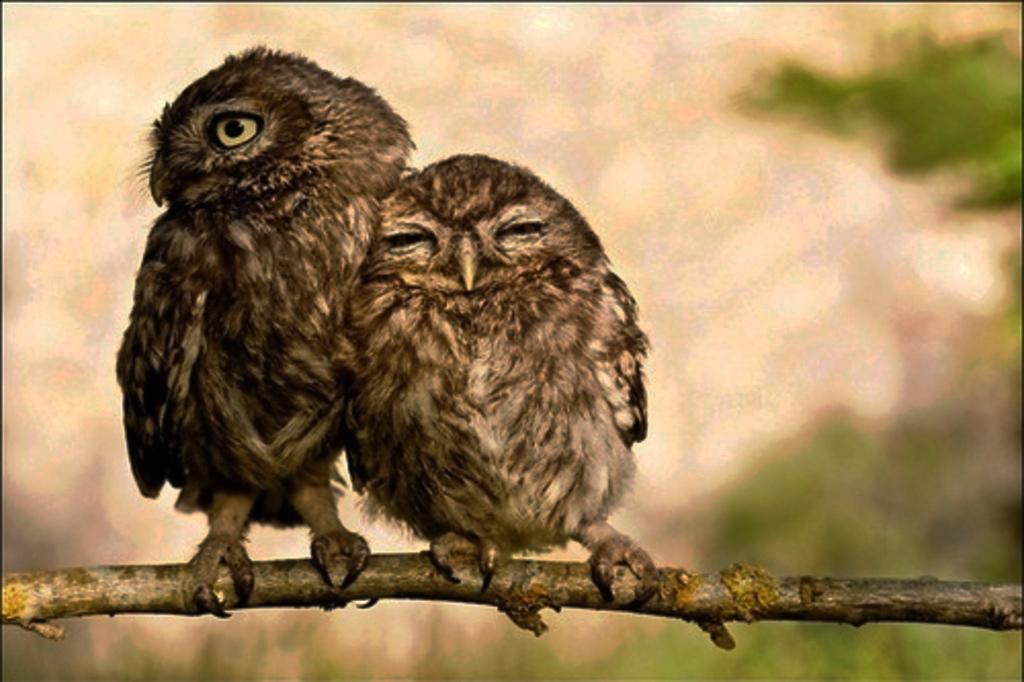Owl: (110, 43, 416, 625), (338, 145, 666, 612)
